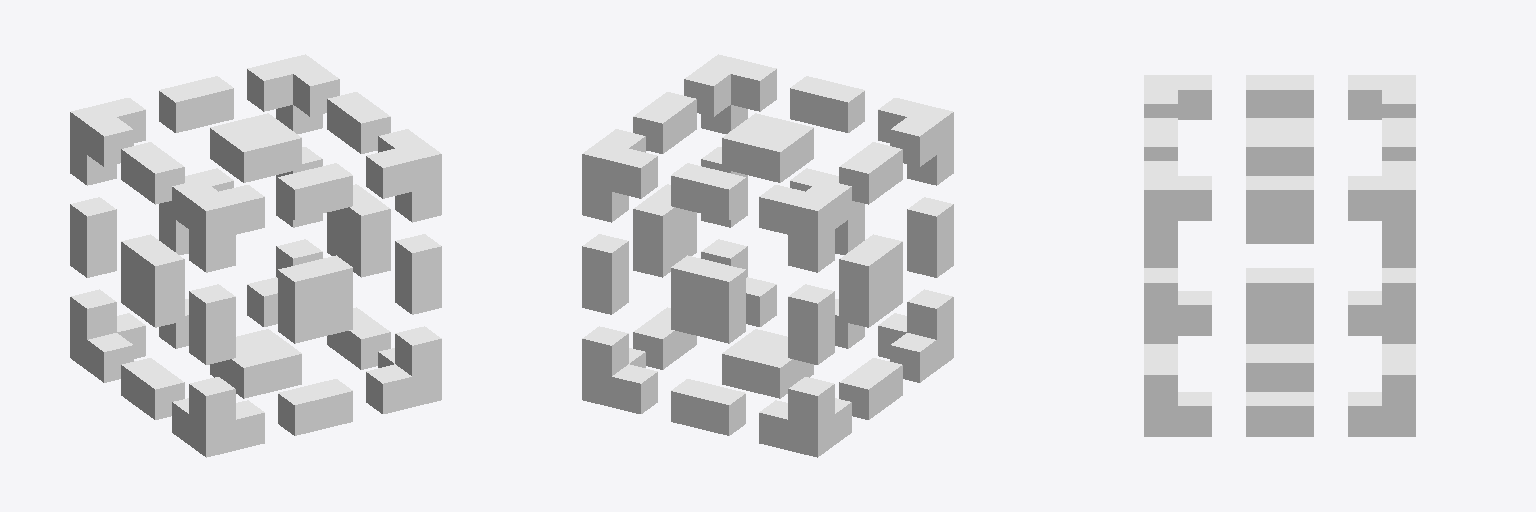
The model's file is playerCage.obj.
3 renders of one model, left to right at view 1: azimuth 30°, elevation 25°; view 2: azimuth 150°, elevation 25°; view 3: azimuth 270°, elevation 25°, orthographic.
Parts seen in each view (by area): view 1: playerCage; view 2: playerCage; view 3: playerCage.
Part boxes in pixels (x1,y1,x2,y2): playerCage: (70,54,441,457); playerCage: (582,54,953,457); playerCage: (1144,75,1415,436).
Bounding box in the file's own units: 8 × 8 × 8.